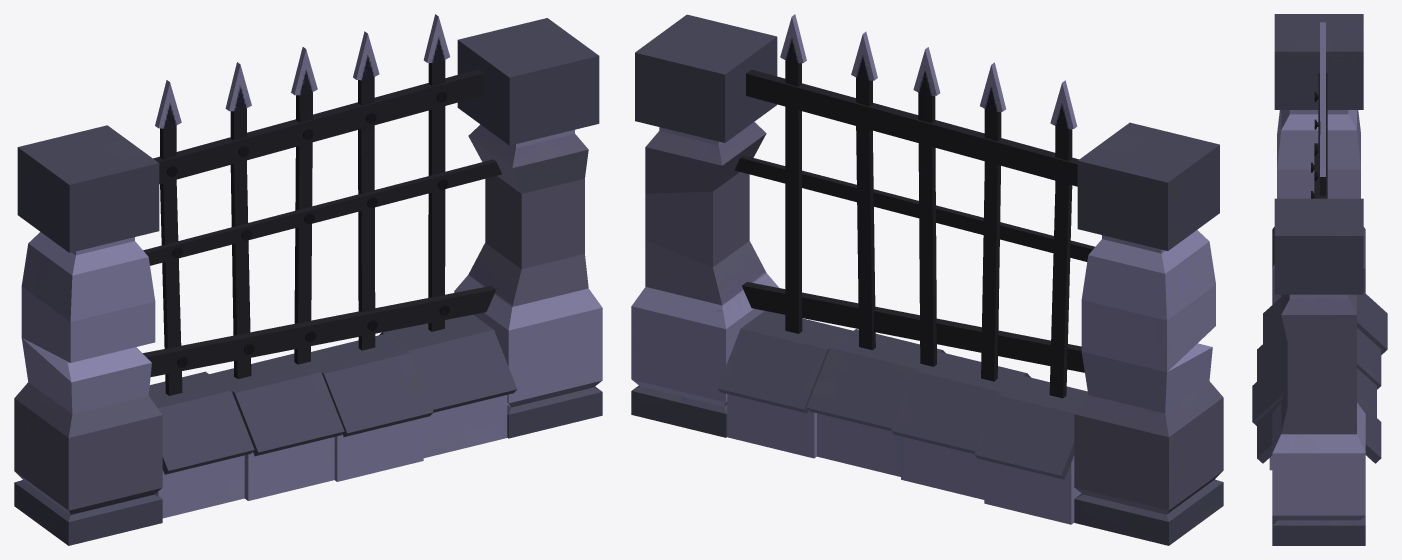
The model's file is fence.glb.
The picture shows the model from 3 angles, left to right: view 1: azimuth 30°, elevation 25°; view 2: azimuth 150°, elevation 25°; view 3: azimuth 270°, elevation 25°; orthographic projection. The views are drawn at different scales.
Visible parts, largest first — view 1: polySurface69; view 2: polySurface69; view 3: polySurface69.
Part boxes in pixels (x1,y1,x2,y2): polySurface69: [14, 14, 602, 545]; polySurface69: [631, 14, 1223, 545]; polySurface69: [1252, 14, 1387, 545].
Size of the model in its own units: 5.68 by 4.2 by 1.45.
1 material, 1 textured.
